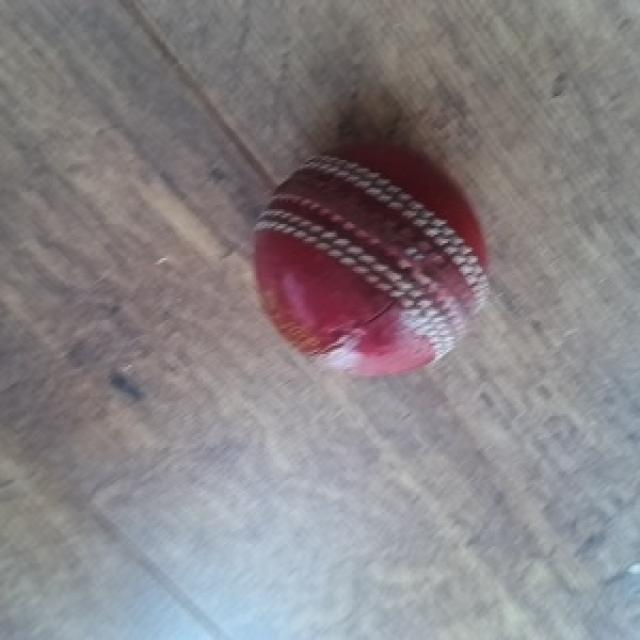ball: (250, 143, 491, 382)
